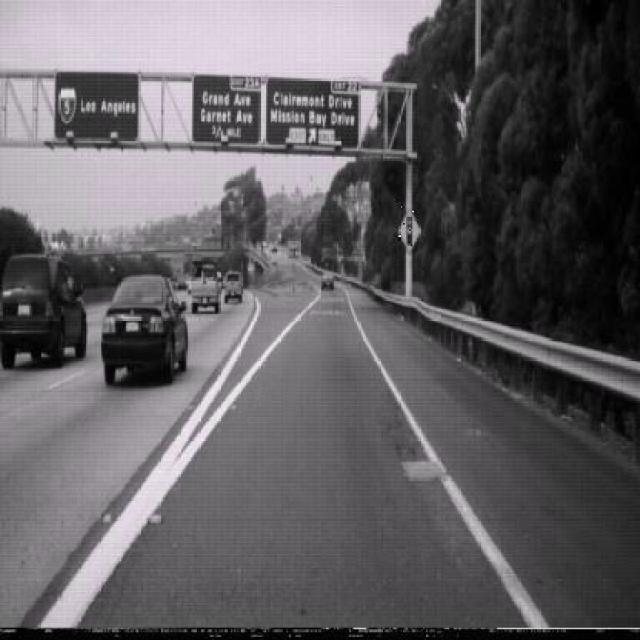signalAhead: (398, 206, 421, 253)
